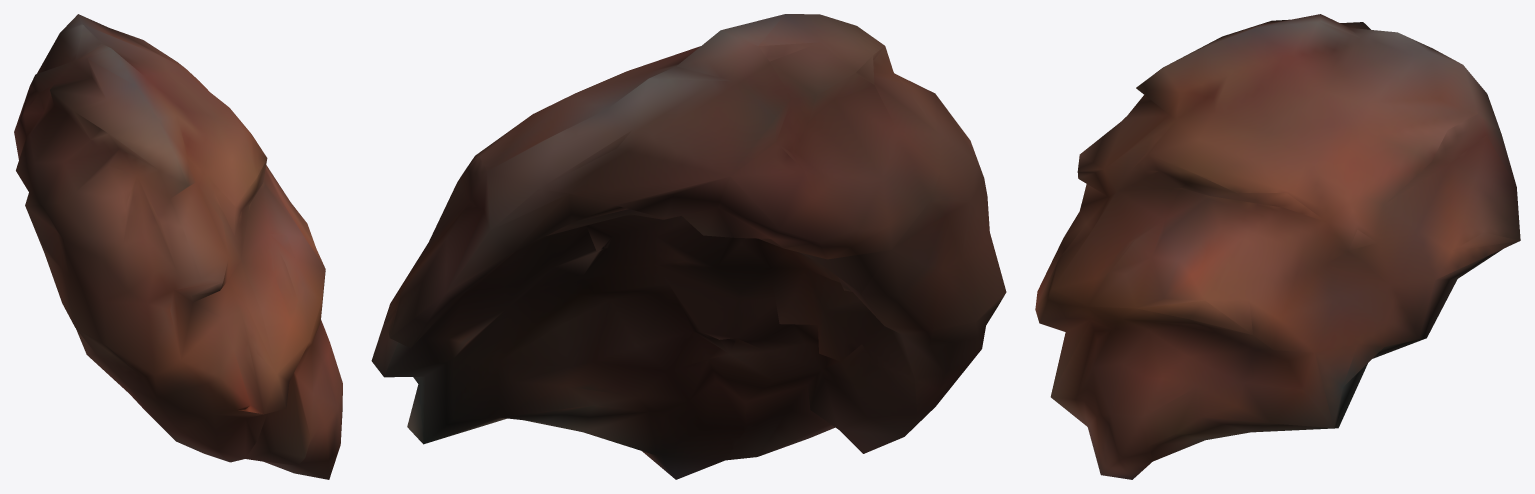
File: chitin_plate.glb
3 renders of one model, left to right at view 1: azimuth 30°, elevation 25°; view 2: azimuth 150°, elevation 25°; view 3: azimuth 270°, elevation 25°, orthographic. The views are drawn at different scales.
Parts seen in each view (by area): view 1: model; view 2: model; view 3: model.
Boxes of the visible parts, x1=… form: model: x1=14, y1=14, x2=342, y2=479; model: x1=371, y1=14, x2=1006, y2=479; model: x1=1035, y1=14, x2=1520, y2=479.
Bounding box in the file's own units: 0.2948 × 0.362 × 0.4002.
Materials: 1 (1 with a texture image).
